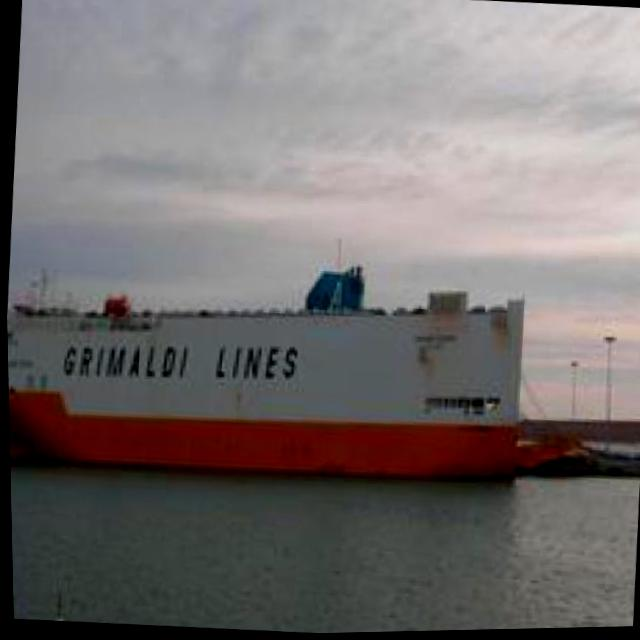ship2: (5, 267, 524, 484)
